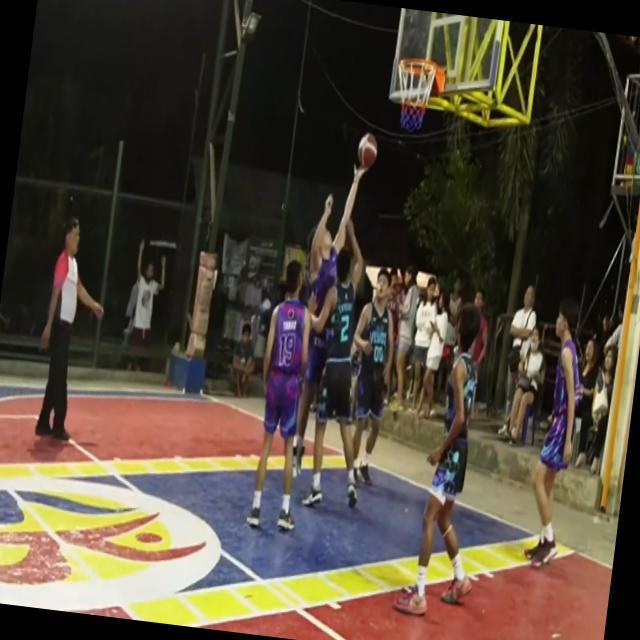ball: (352, 124, 381, 176)
hoop: (393, 57, 440, 75)
